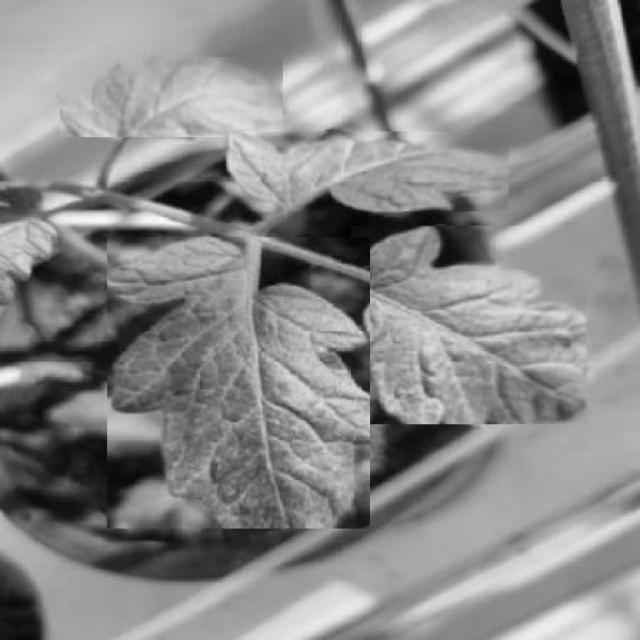Healthy: (107, 238, 370, 529), (351, 226, 588, 424), (225, 131, 509, 212), (60, 57, 284, 137)
